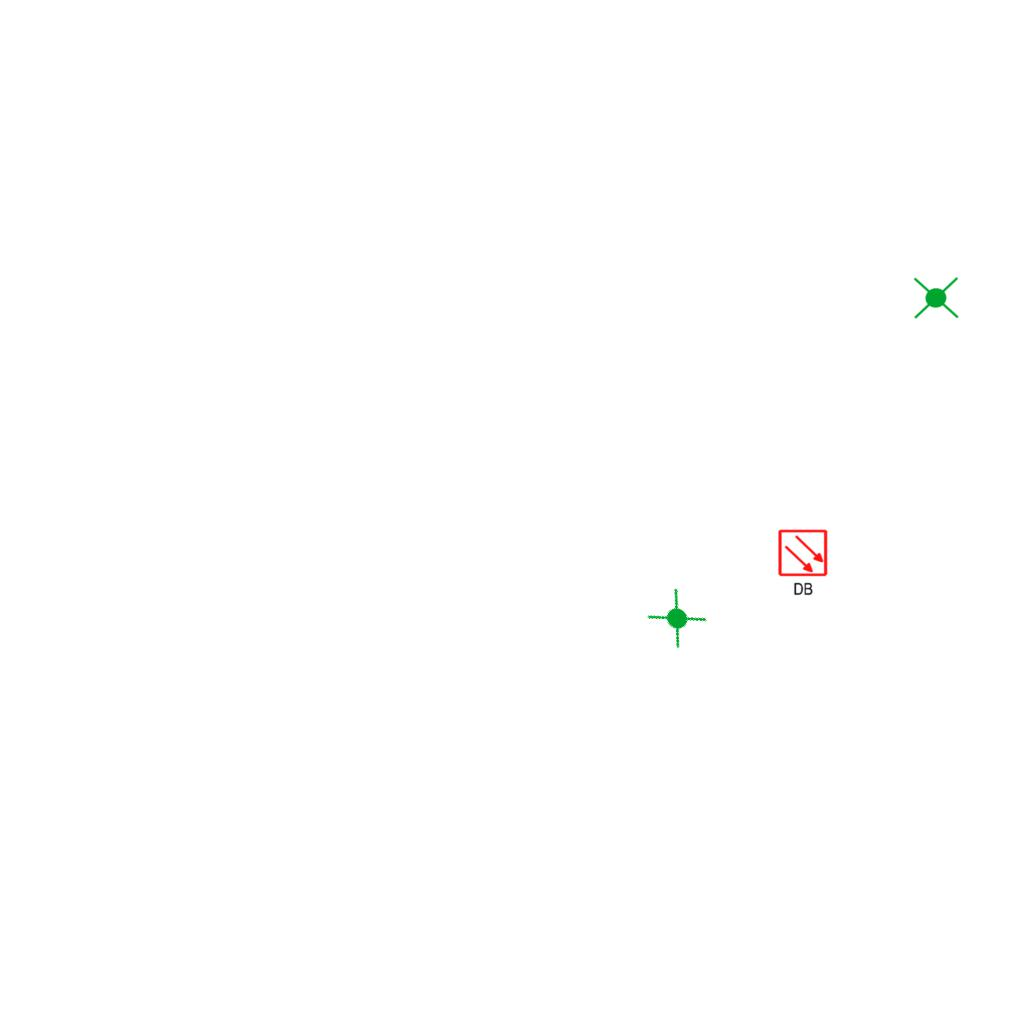DB_Melder_in_Doppelboden_mit_Revisionsoeffnung_mind_40_x_40_cm: (775, 526, 832, 600)
Notlichtbaustein_in_Allgemeinbeleuchtug_engebaut_Einbau_(1UG_und_2UG_Aufbauvaria: (641, 582, 714, 654), (911, 273, 961, 324)
